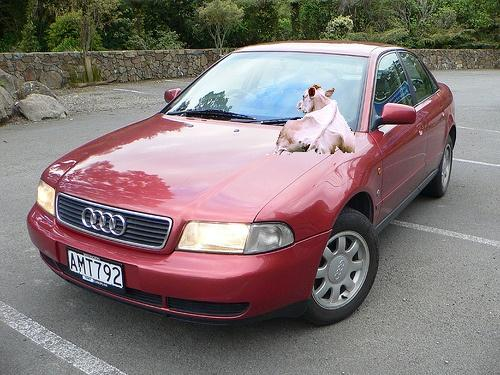tampered: (267, 85, 355, 155)
